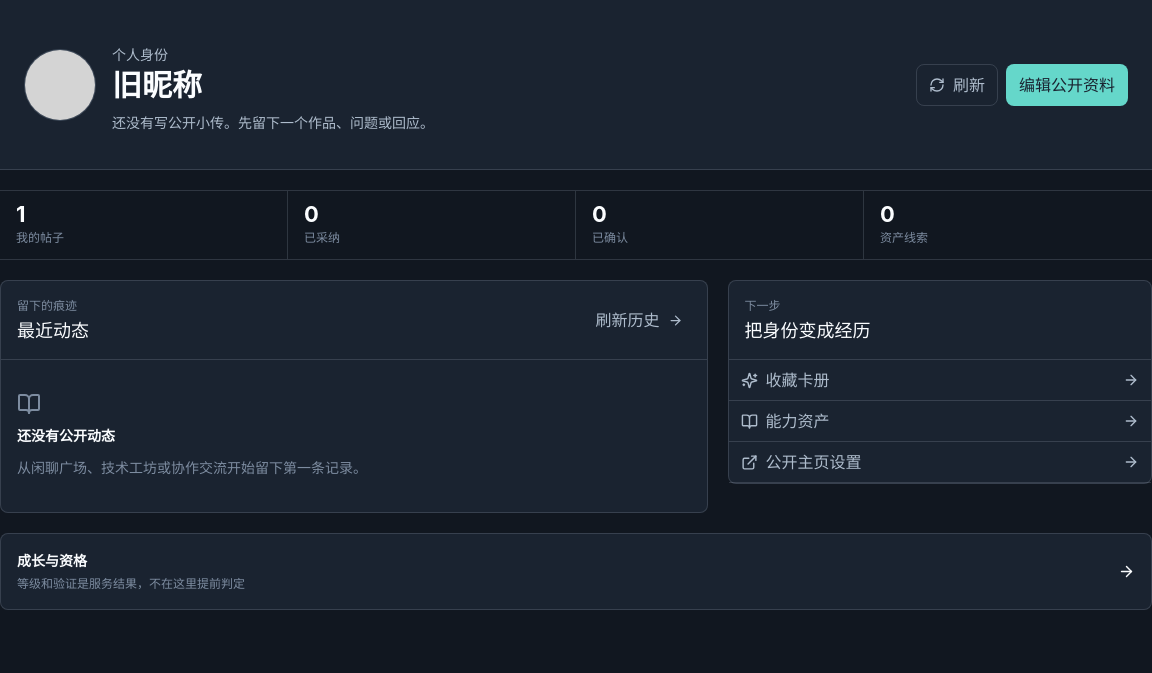
Test: ZeroCityPersonalHub › saves nickname and avatar through the existing user contract, then refreshes the city profile
This screenshot has width=1152, height=673.
Click the button with class "city-personal-primary" at (1067, 84), box [1006,64,1128,106]
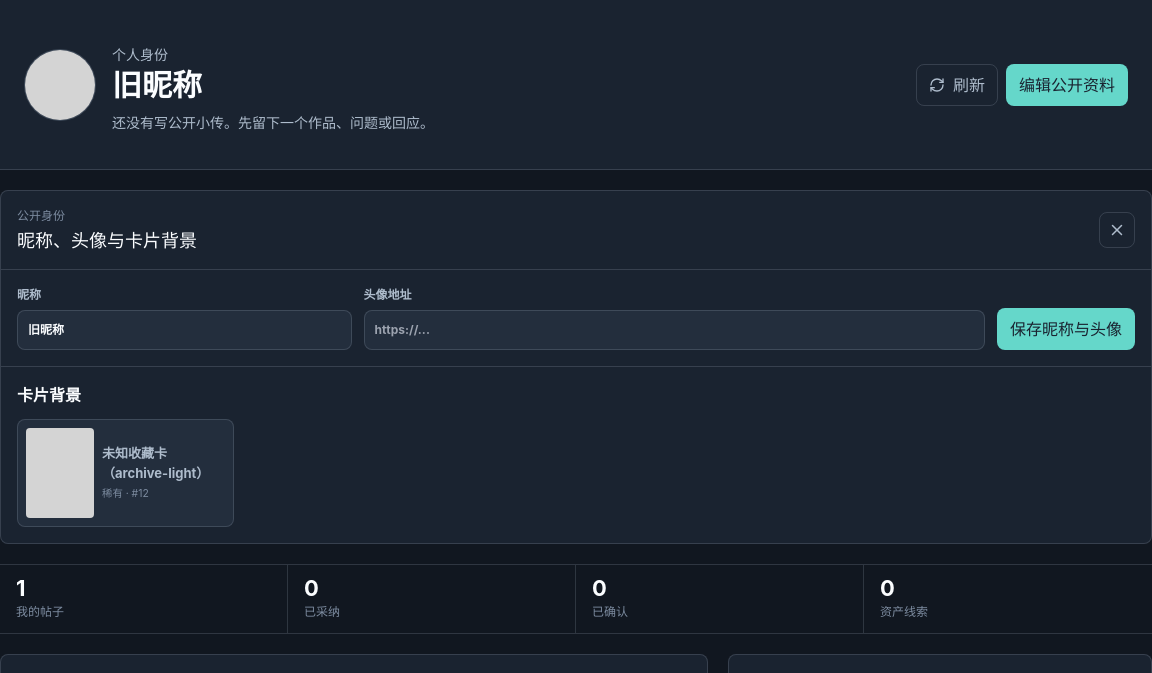
Replace the text in the field named "nickname" with "新昵称" at (184, 330), box [17,310,352,350]
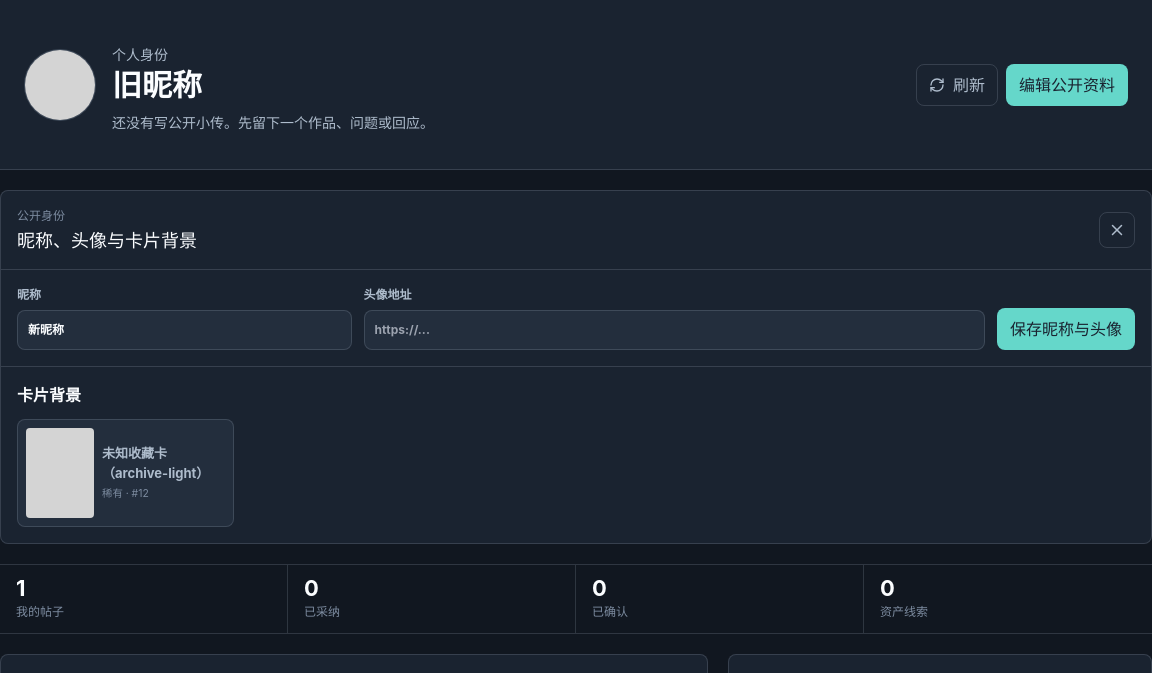
Type "https://example.test/avatar.png" into the field named "avatar" at (674, 330), box [364,310,985,350]
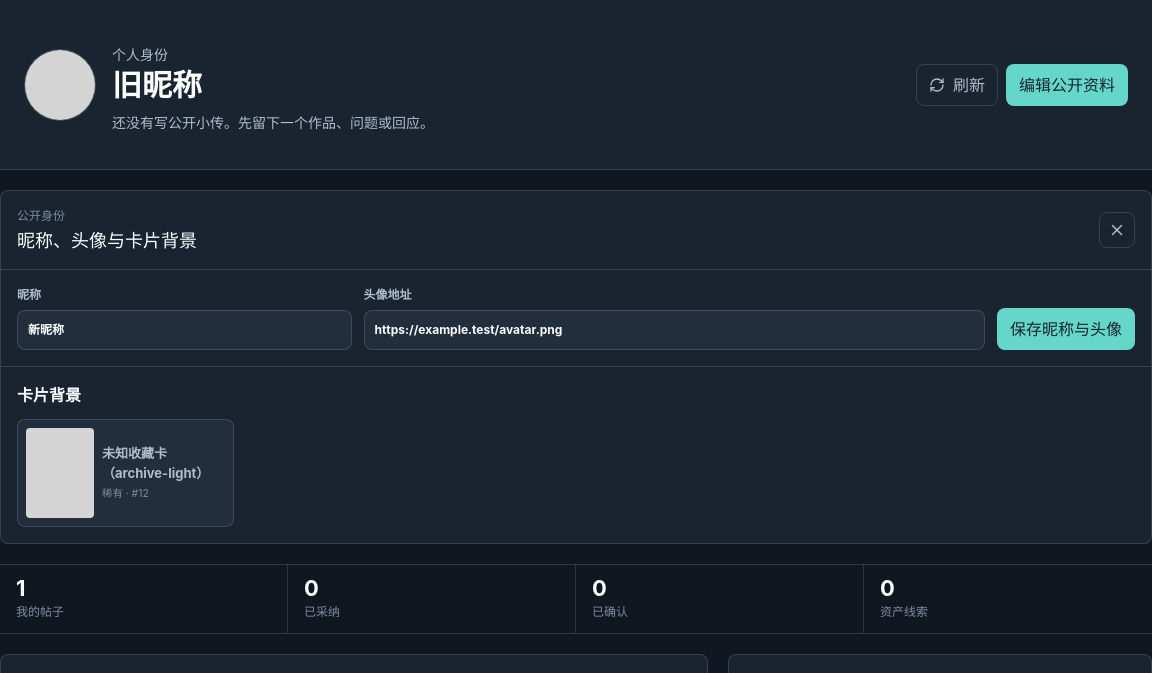
Submit the form with class "city-personal-editor-form", box [1,270,1151,367]
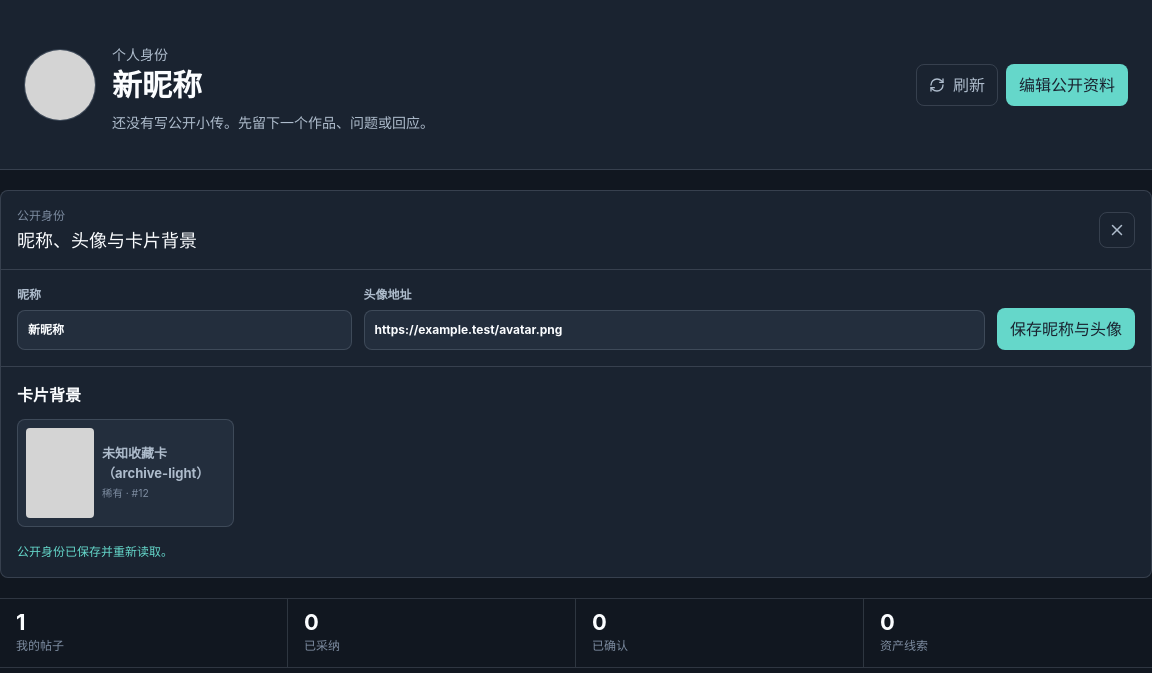
Result: the heading with id "city-personal-title" reads "新昵称" at [112,66,202,102]
